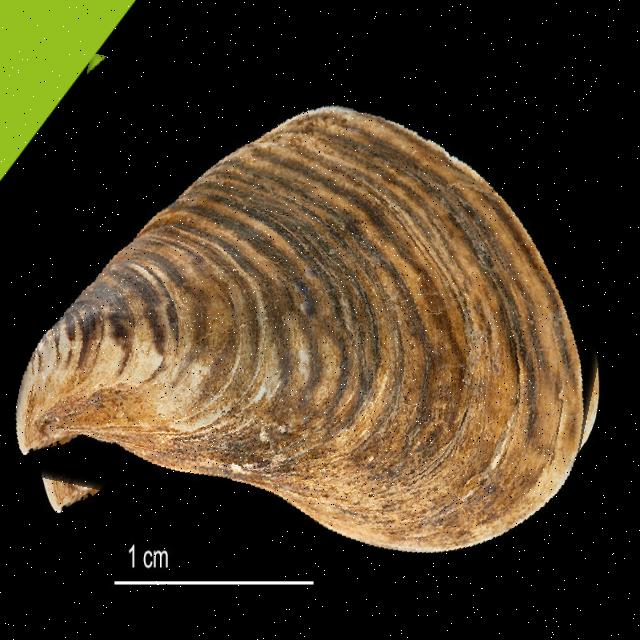Dreissena_bugensis: (21, 80, 620, 559)
